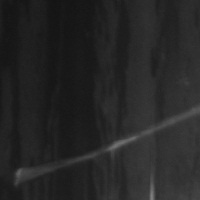scratches: (13, 103, 196, 186)
